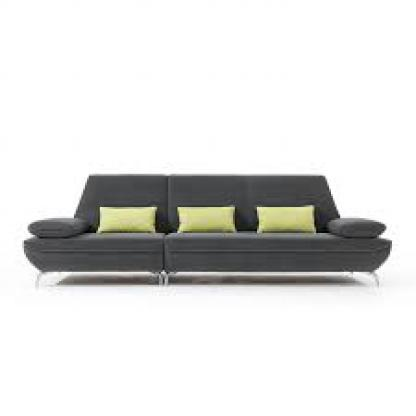sofa: (20, 164, 396, 296)
